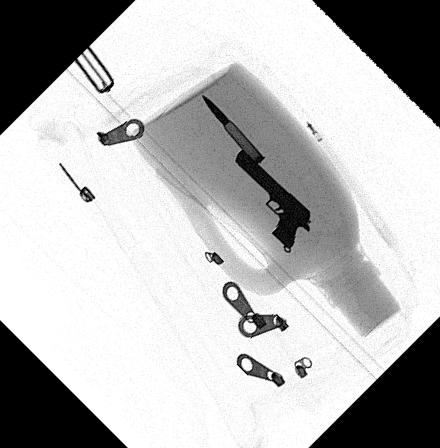Bullet: (199, 92, 263, 164)
Gun: (231, 145, 311, 249)
